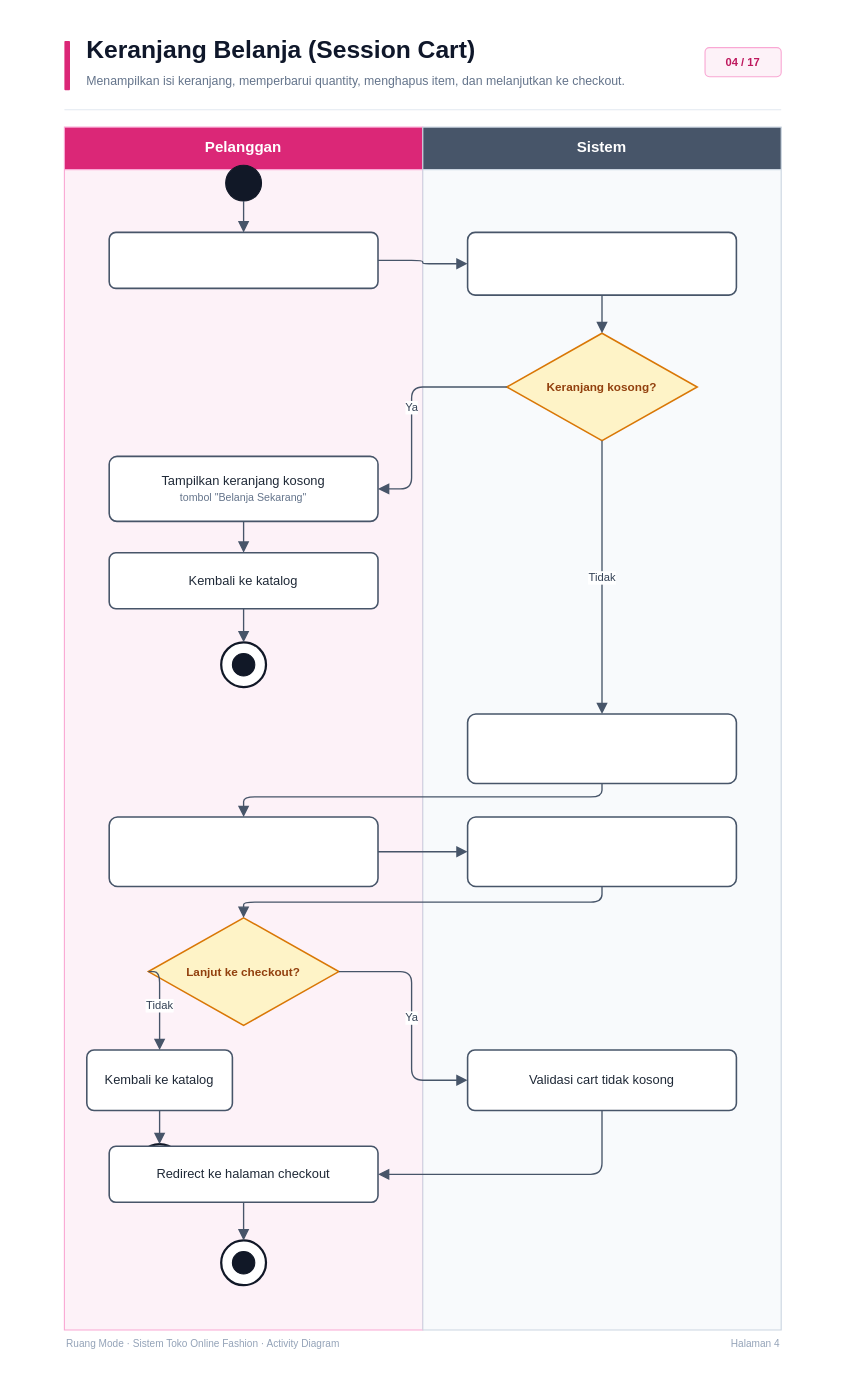
Image size: 844x1393. Some labels were removed from this diagram. Each missing label, with the centre of its shape:
"Ambil cart dari session & hitung subtotal" goes at [601,263].
"Buka halaman keranjang" goes at [243,260].
"Perbarui session cart quantity minimal 1 · unset item yang dihapus" goes at [601,851].
"Tampilkan item + ringkasan subtotal · ongkir Rp15.000 · total" goes at [601,748].
"Ubah quantity / hapus item (opsional)" goes at [243,851].
